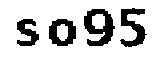5: (118, 5, 149, 49)
9: (80, 6, 115, 49)
o: (47, 18, 77, 46)
s: (14, 19, 40, 48)
